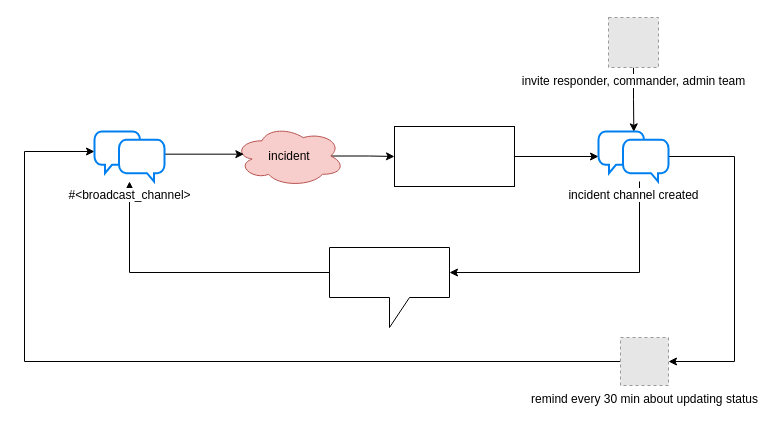
The diagram is 775 pixels wide and 424 high, and some of its shapes have lost their labels. Grey dashed boxes stand in for pictures. Here are the shapes that lost their labels. From the top down, the centre of each, then its label:
the point at 454,156: Bot asks for incident information
the point at 389,287: inform about incident channel created
